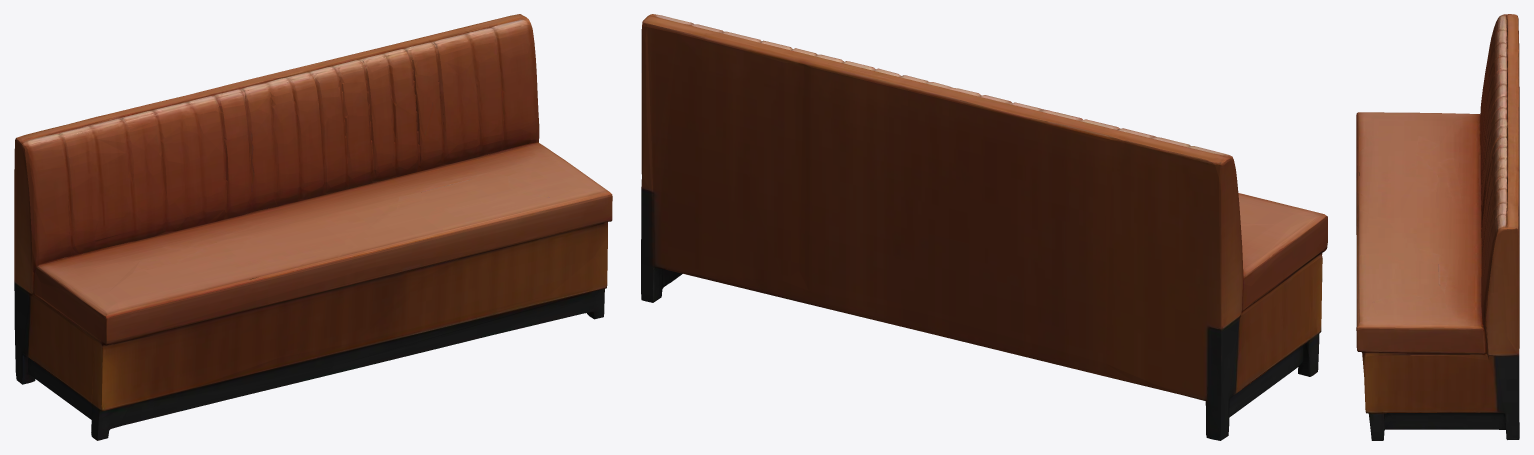
3 renders of one model, left to right at view 1: azimuth 30°, elevation 25°; view 2: azimuth 150°, elevation 25°; view 3: azimuth 270°, elevation 25°, orthographic. The views are drawn at different scales.
Parts seen in each view (by area): view 1: geometry_0; view 2: geometry_0; view 3: geometry_0.
Part boxes in pixels (bbox=[...]): geometry_0: bbox=[14, 14, 612, 440]; geometry_0: bbox=[641, 14, 1327, 440]; geometry_0: bbox=[1356, 14, 1519, 440].
Bounding box in the file's own units: 0.995 × 0.4576 × 0.3175.
1 material, 1 textured.
